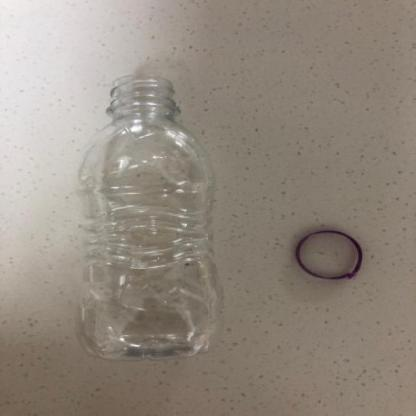Plastic Bottle: (80, 75, 221, 360)
